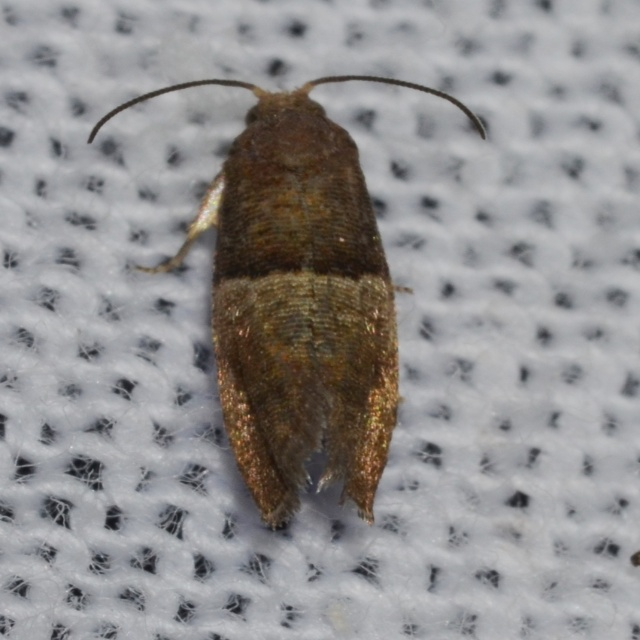Moths and butterflies: (83, 74, 490, 532)
